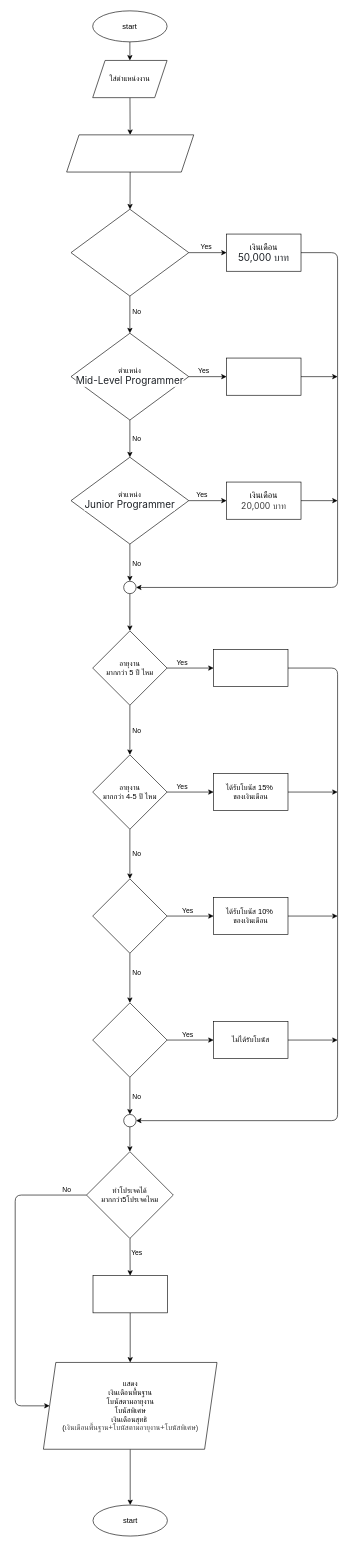
Image size: 353x1547. Some labels were removed from this diagram. The box of each missing label's shape, as (x1, y1, x2, y2) in pixels:
ตำแหน่ง Senior Programmer: (70, 209, 189, 296)
อายุงาน น้อยกว่า 1 ปี ไหม: (92, 1002, 167, 1077)
อายุงาน มากกว่า 1-3 ปี ไหม: (92, 878, 167, 953)
เงินเดือน 35,000 บาท: (226, 357, 301, 395)
ใส่จำนวนปีที่ทำงาน และ โปรเจคที่เสร็จในปีนี้: (66, 134, 194, 172)
ได้รับโบนัส 20% ของเงินเดือน: (213, 649, 288, 687)
ได้รับโบนัสเพิ่ม 5% ของเงินเดือน: (92, 1275, 167, 1313)
